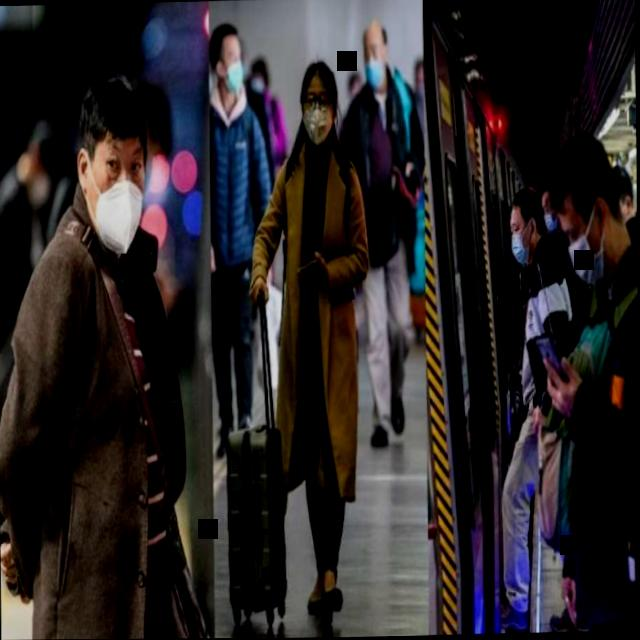Mask: (66, 63, 161, 266), (543, 127, 623, 294), (293, 56, 342, 150), (201, 15, 246, 97), (505, 184, 542, 272), (358, 16, 390, 98)
